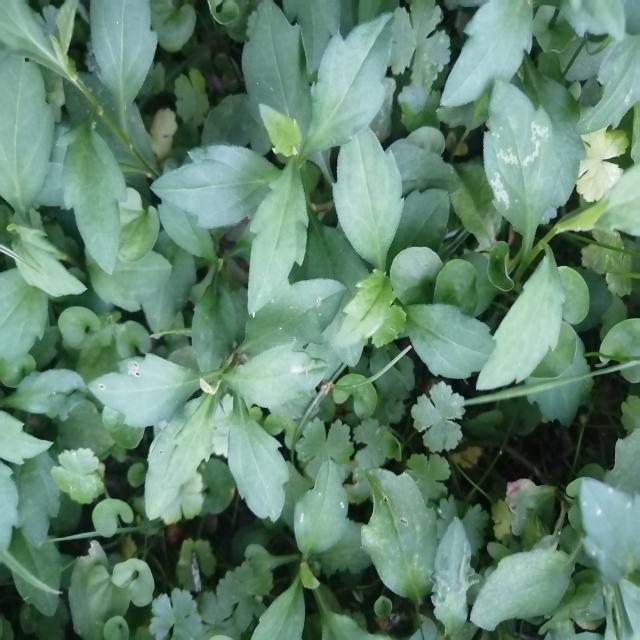Indian aster: (178, 6, 412, 298), (123, 272, 340, 524), (334, 130, 484, 390)
